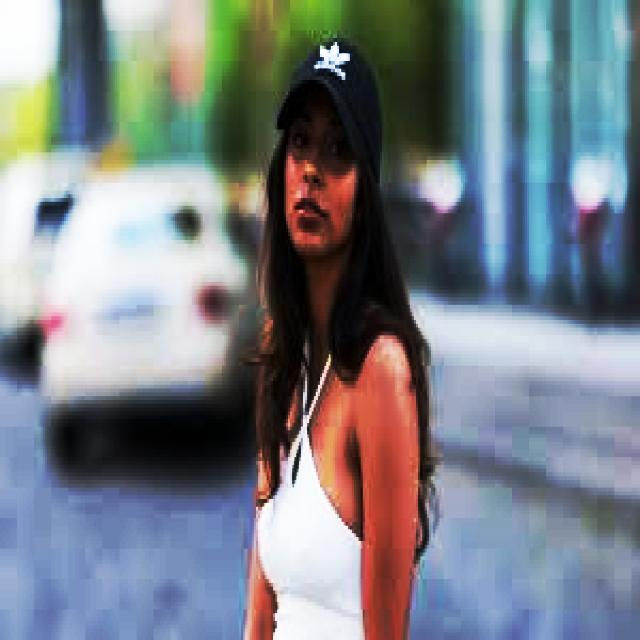TOPI: (271, 31, 384, 179)
